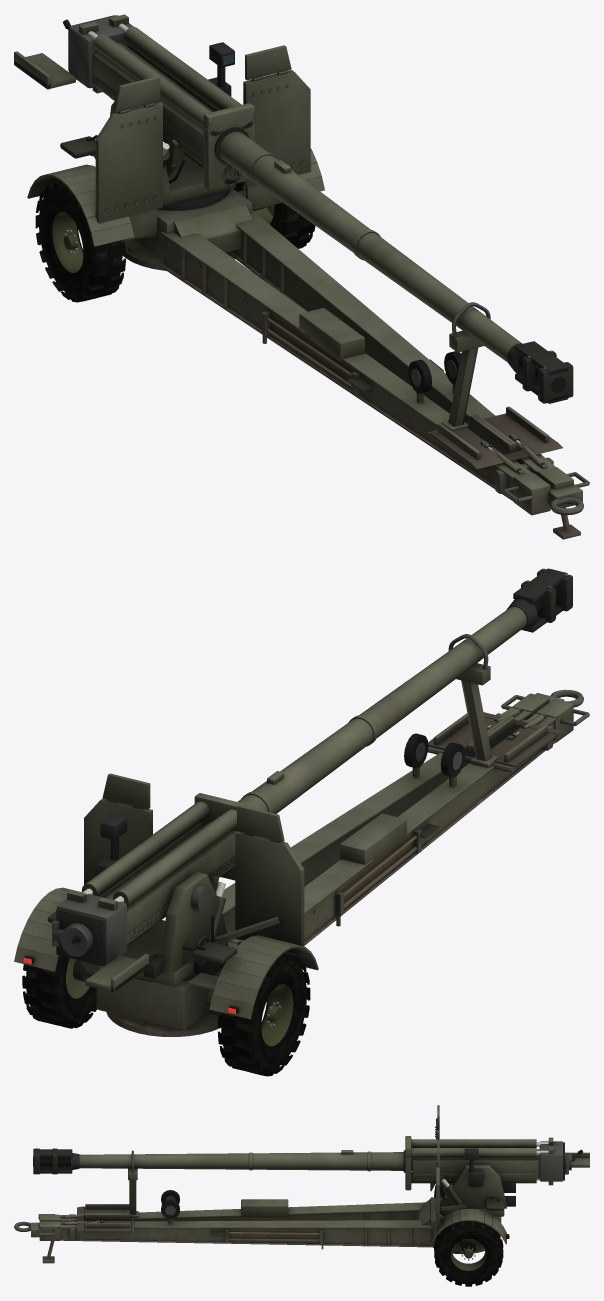
File: towed-howitzer.glb
3 renders of one model, top to bottom at view 1: azimuth 30°, elevation 25°; view 2: azimuth 150°, elevation 25°; view 3: azimuth 270°, elevation 25°, orthographic. The views are drawn at different scales.
Parts seen in each view (by area): view 1: barrel_mesh, trail_R_mesh, carriage_mesh, trail_L_mesh, body, wheel_R_mesh, wheel_L_mesh; view 2: barrel_mesh, carriage_mesh, trail_R_mesh, body, trail_L_mesh, wheel_R_mesh, wheel_L_mesh, breech_block_mesh; view 3: barrel_mesh, trail_L_mesh, trail_R_mesh, carriage_mesh, wheel_L_mesh, body.
Boxes of the visible parts, x1,y1,x2,y2 form: barrel_mesh: (14,14,573,403); trail_R_mesh: (161,231,550,515); carriage_mesh: (60,42,310,241); trail_L_mesh: (227,210,589,539); body: (27,148,324,270); wheel_R_mesh: (35,181,125,302); wheel_L_mesh: (233,182,315,248); barrel_mesh: (56,568,572,992); carriage_mesh: (47,773,304,990); trail_R_mesh: (232,634,589,945); body: (14,887,318,1036); trail_L_mesh: (222,689,583,941); wheel_R_mesh: (218,953,310,1076); wheel_L_mesh: (22,955,96,1028); breech_block_mesh: (52,920,93,956); barrel_mesh: (33,1136,589,1195); trail_L_mesh: (14,1200,434,1263); trail_R_mesh: (38,1150,424,1222); carriage_mesh: (435,1105,515,1236); wheel_L_mesh: (434,1221,503,1286); body: (418,1183,509,1254).
Size of the model in its own units: 2.56 by 2.38 by 9.73.
Materials: 7 (2 with a texture image).
